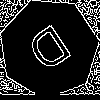D: (24, 23, 80, 81)
